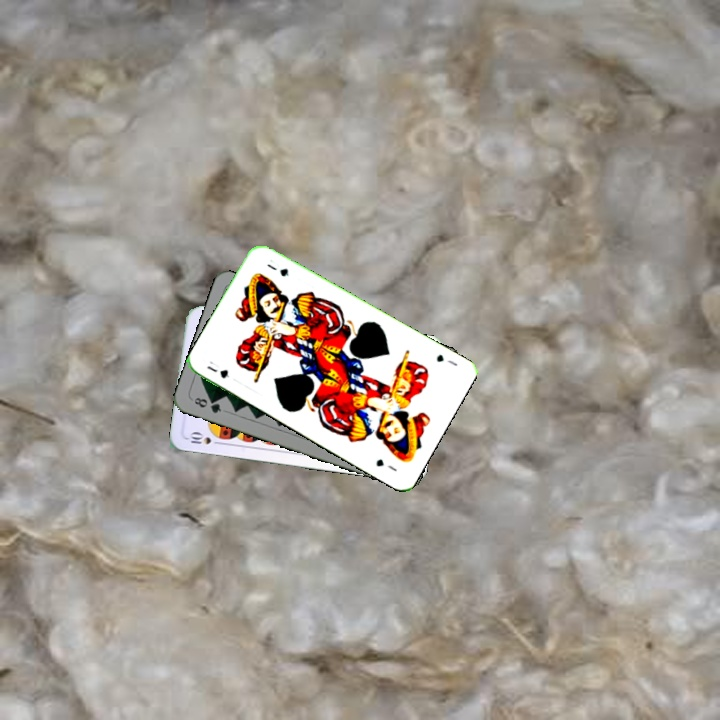G8: (190, 393, 224, 416)
GU: (203, 361, 232, 381), (432, 350, 460, 369)
S10: (184, 429, 224, 447)
